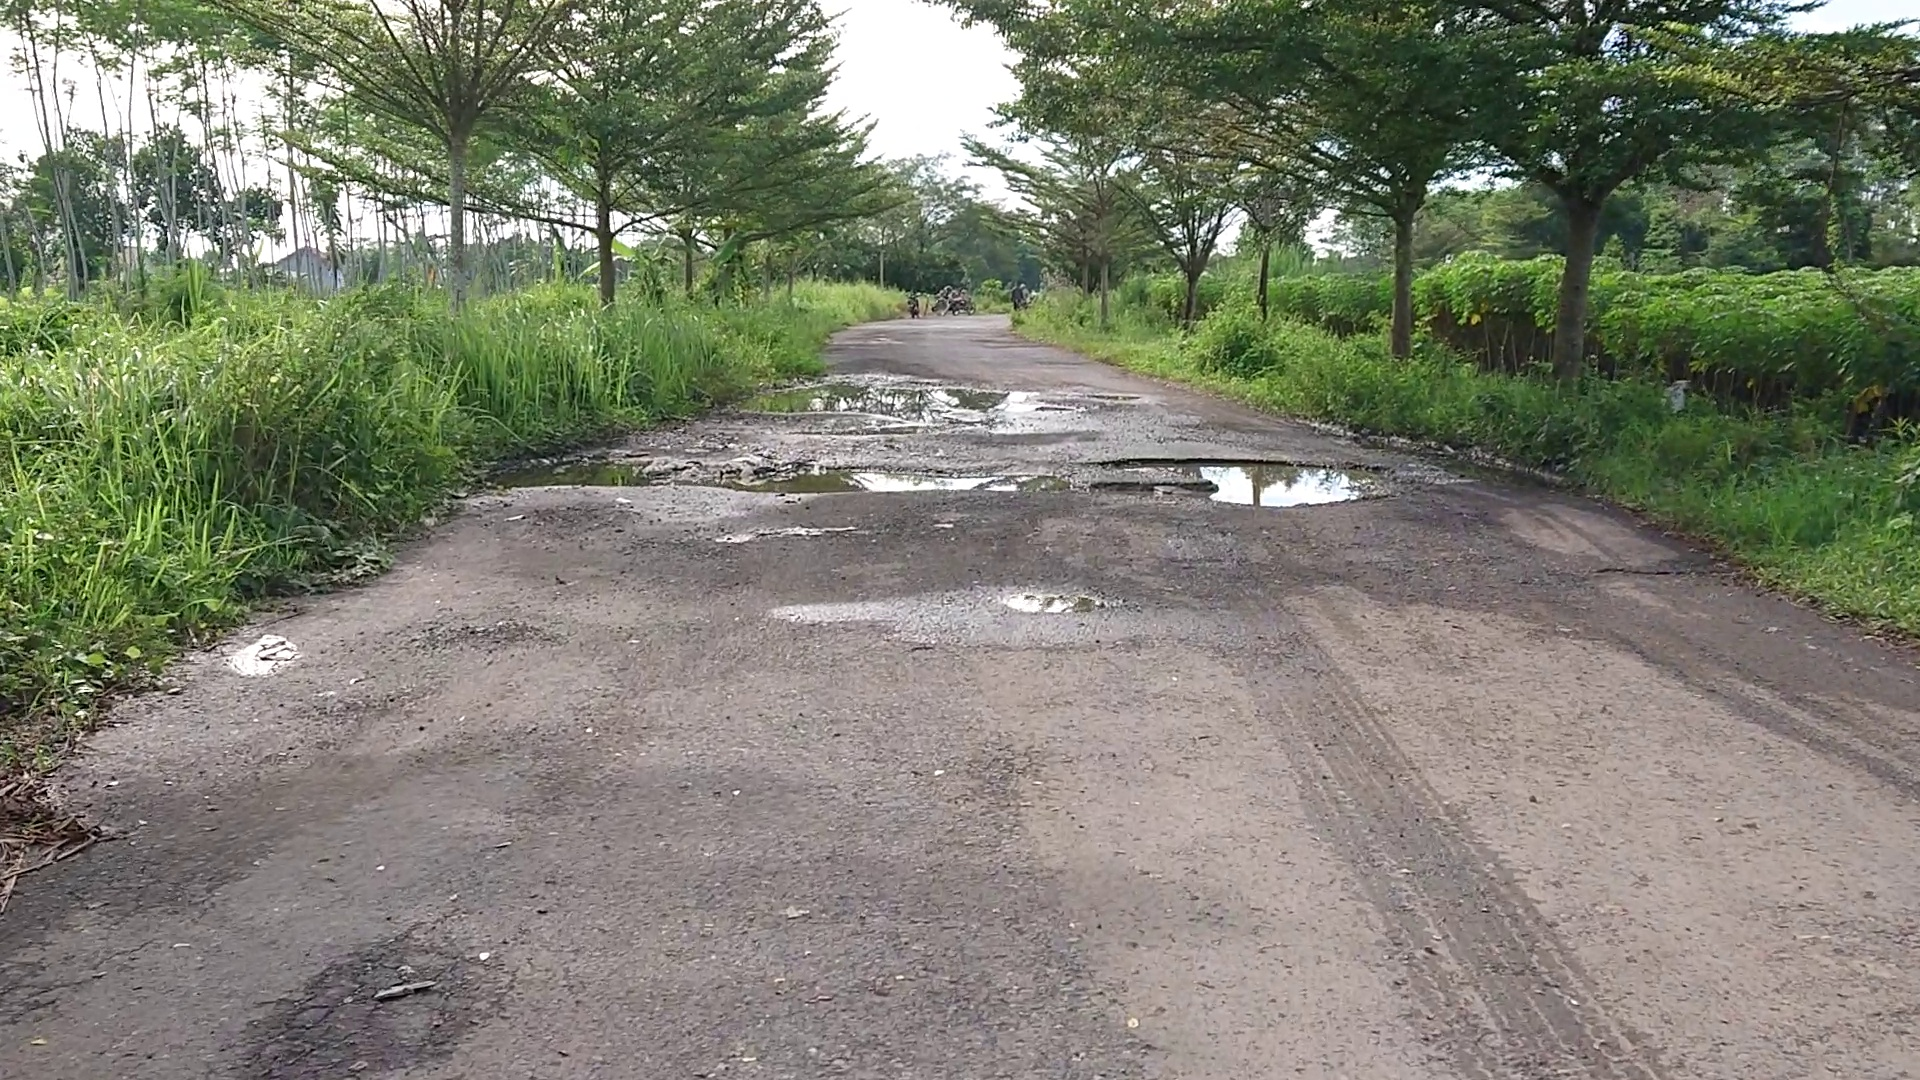Berlubang: (746, 365, 1121, 433), (1104, 467, 1400, 514), (731, 456, 1067, 497), (520, 454, 703, 489)
